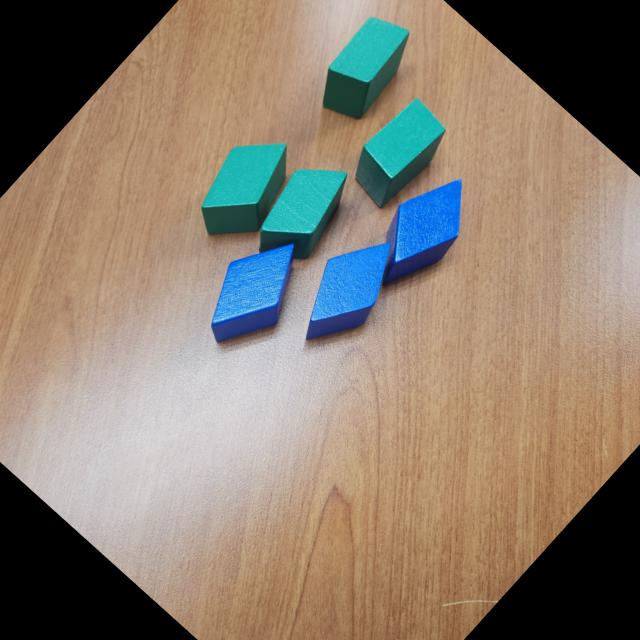blue: (183, 219, 324, 364), (278, 220, 415, 361), (352, 160, 488, 301)
green: (180, 120, 312, 257), (238, 148, 366, 280), (304, 5, 426, 130), (339, 94, 456, 214)
